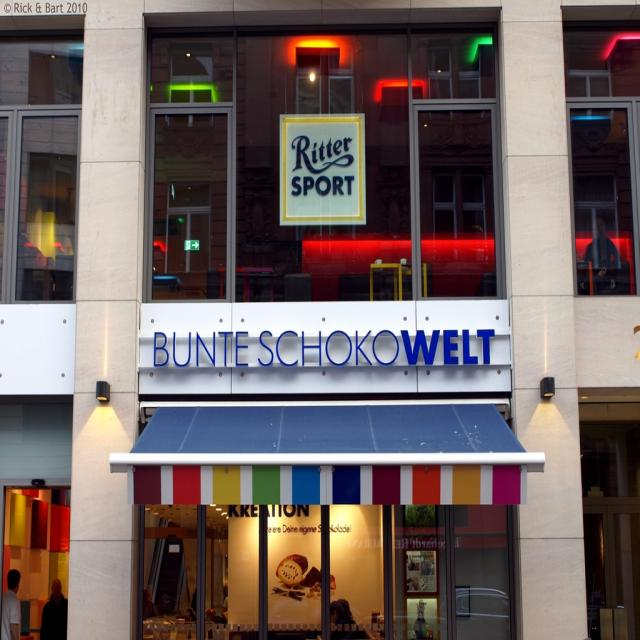rittersport: (283, 118, 365, 222)
